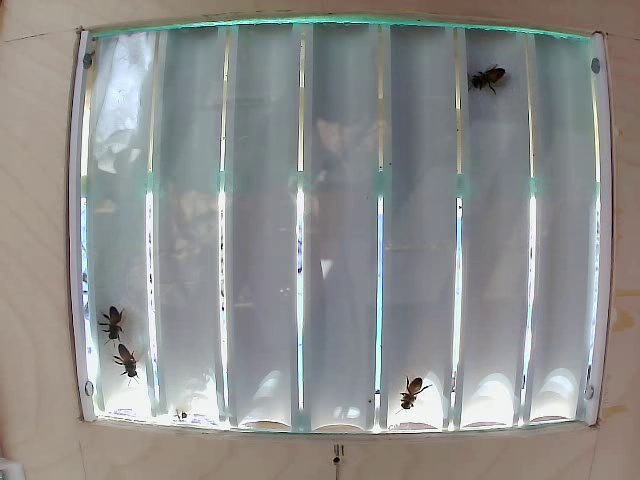bee: (373, 366, 446, 409), (105, 339, 152, 385), (93, 309, 149, 343), (463, 56, 501, 95)
